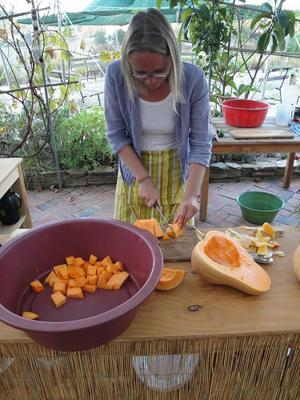person: (102, 8, 213, 231)
